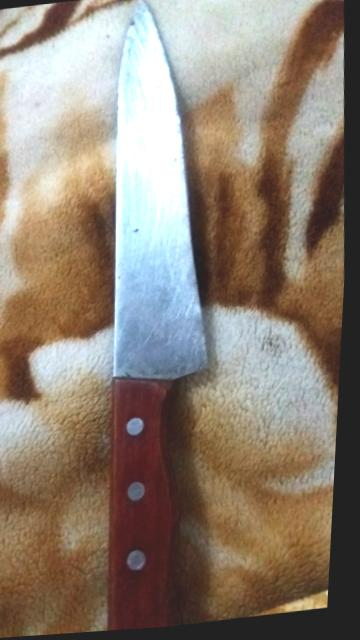Knife: (107, 2, 205, 630)
